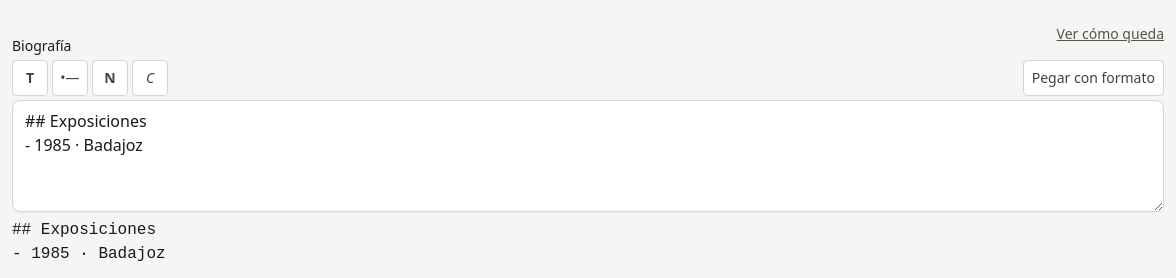
Scenario: el campo de un texto con marcas › la vista previa enseña los bloques, y no el texto con los símbolos
Click the button "Ver cómo queda".
click(1110, 34)  # box x1=1056 y1=12 x2=1164 y2=56
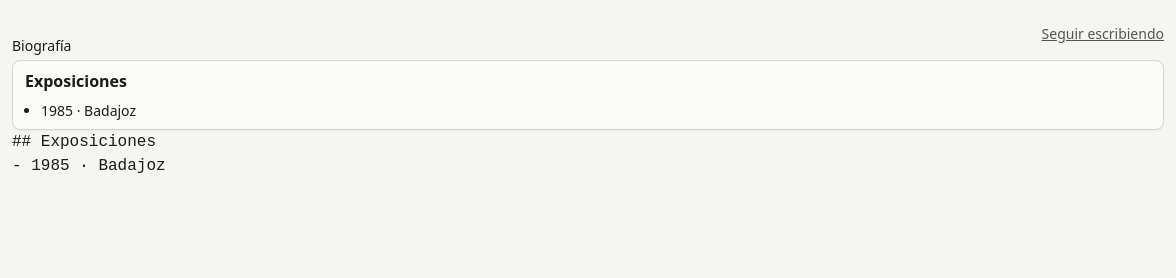
Now the list item reads "1985 · Badajoz", box x1=41 y1=101 x2=136 y2=120
Now the text "Exposiciones" is shown, box x1=25 y1=70 x2=127 y2=92
